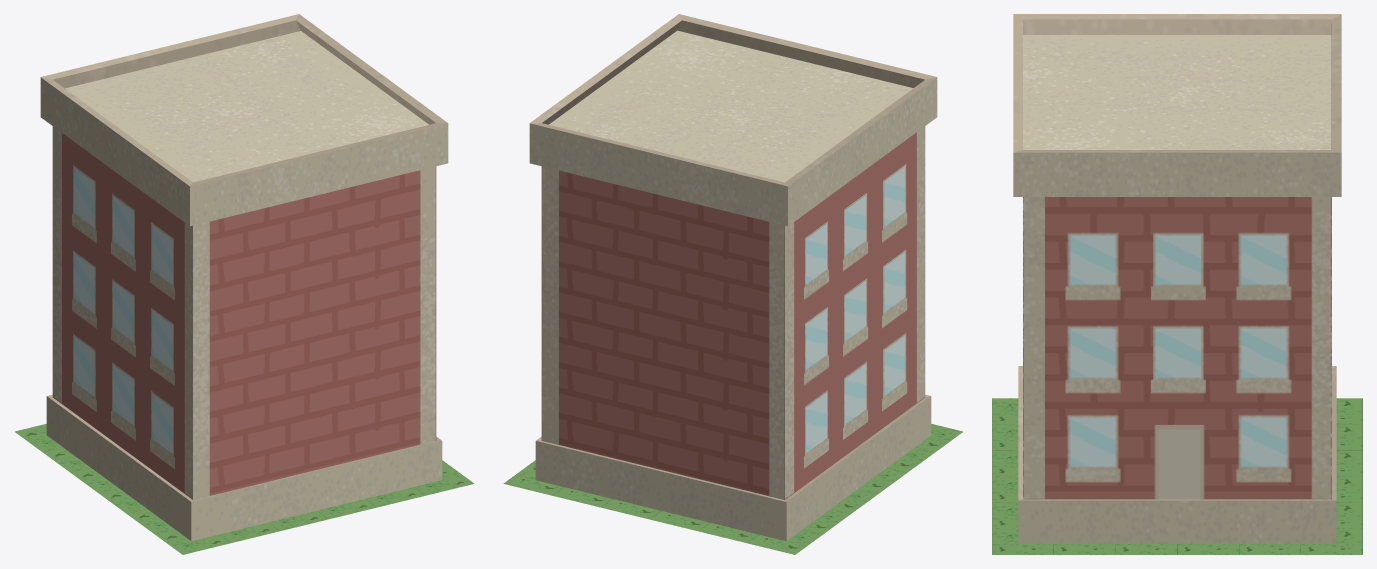
The model's file is Tall_Building_1.glb.
3 renders of one model, left to right at view 1: azimuth 30°, elevation 25°; view 2: azimuth 150°, elevation 25°; view 3: azimuth 270°, elevation 25°, orthographic. The views are drawn at different scales.
Visible parts, largest first — view 1: building tall 1, 6x6 grass; view 2: building tall 1, 6x6 grass; view 3: building tall 1, 6x6 grass.
Part boxes in pixels (<box>): building tall 1: <box>40,14,448,541</box>; 6x6 grass: <box>15,424,474,554</box>; building tall 1: <box>529,14,937,541</box>; 6x6 grass: <box>503,424,962,554</box>; building tall 1: <box>1013,14,1341,543</box>; 6x6 grass: <box>992,398,1362,554</box>.
Bounding box in the file's own units: 12 × 14.07 × 12.
Materials: 2 (2 with a texture image).
